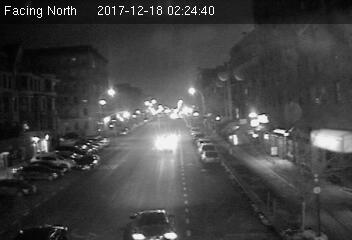car: (76, 154, 99, 171), (201, 151, 220, 163)
